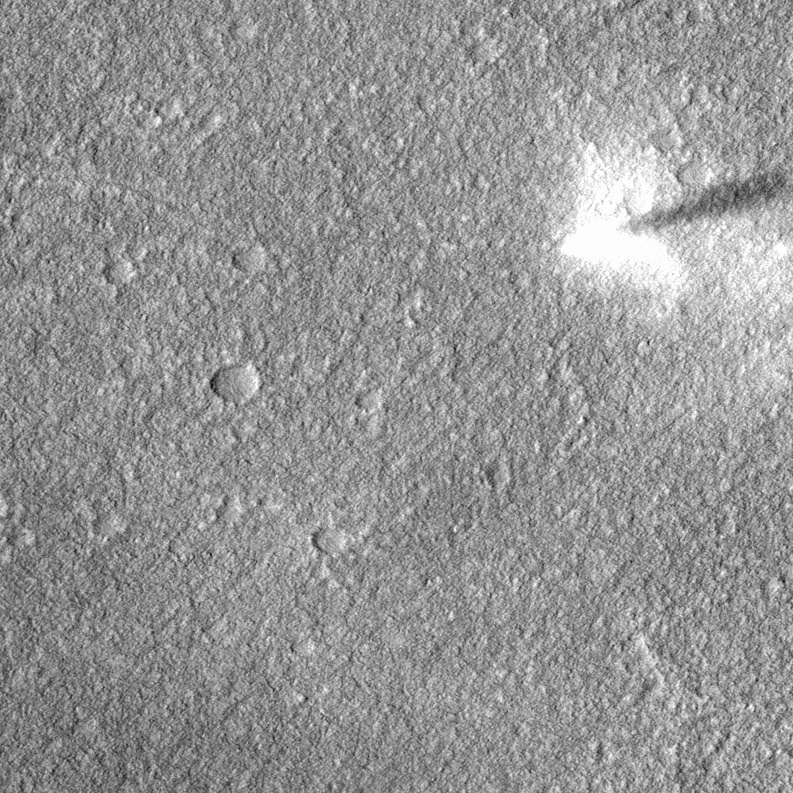dust_devil: (551, 135, 793, 299)
